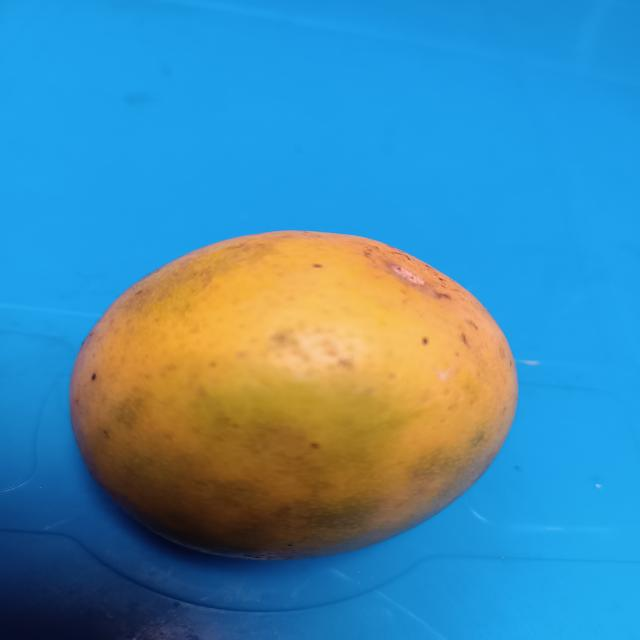Ripe orange: (64, 216, 525, 563)
